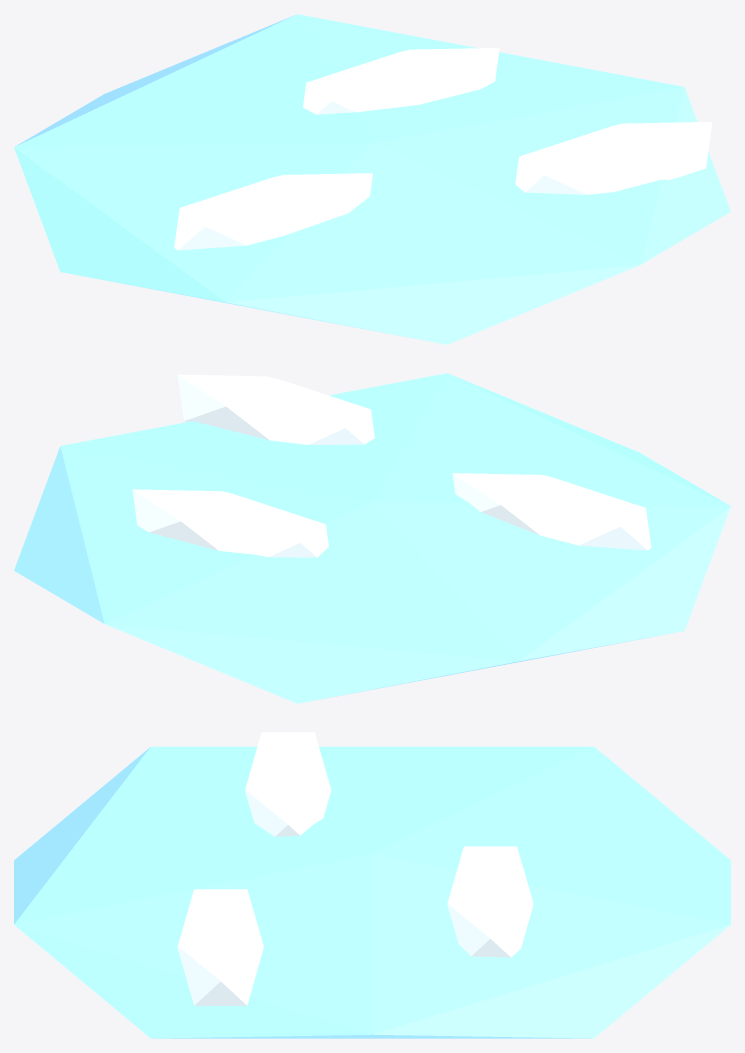
Rendered from fish_spot.glb.
The picture shows the model from 3 angles, top to bottom: view 1: azimuth 30°, elevation 25°; view 2: azimuth 150°, elevation 25°; view 3: azimuth 270°, elevation 25°; orthographic projection. The views are drawn at different scales.
Visible parts, largest first — view 1: Shoal, ShoalFish2, ShoalFish0, ShoalFish1; view 2: Shoal, ShoalFish2, ShoalFish0, ShoalFish1; view 3: Shoal, ShoalFish2, ShoalFish1, ShoalFish0.
Boxes of the visible parts, box(x1,y1,x2,y2) form: Shoal: box(14, 14, 730, 344); ShoalFish2: box(515, 121, 712, 194); ShoalFish0: box(174, 173, 372, 250); ShoalFish1: box(303, 48, 499, 114); Shoal: box(14, 373, 730, 703); ShoalFish2: box(177, 374, 374, 444); ShoalFish0: box(452, 473, 651, 550); ShoalFish1: box(132, 489, 328, 557); Shoal: box(14, 746, 730, 1038); ShoalFish2: box(177, 889, 263, 1005); ShoalFish1: box(447, 846, 533, 957); ShoalFish0: box(245, 732, 331, 836).
Size of the model in its own units: 0.8944 by 0.14 by 0.8506.
